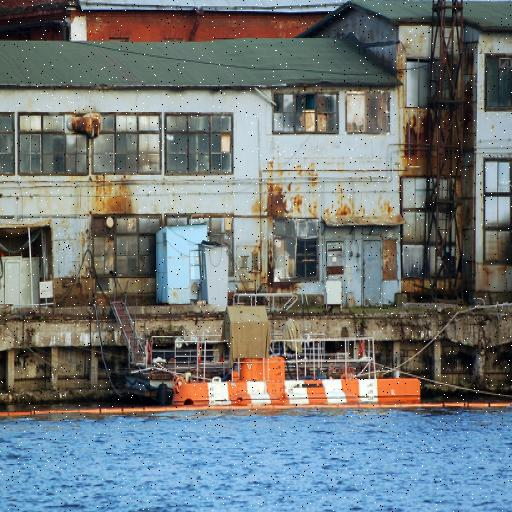submarine: (173, 359, 423, 404)
